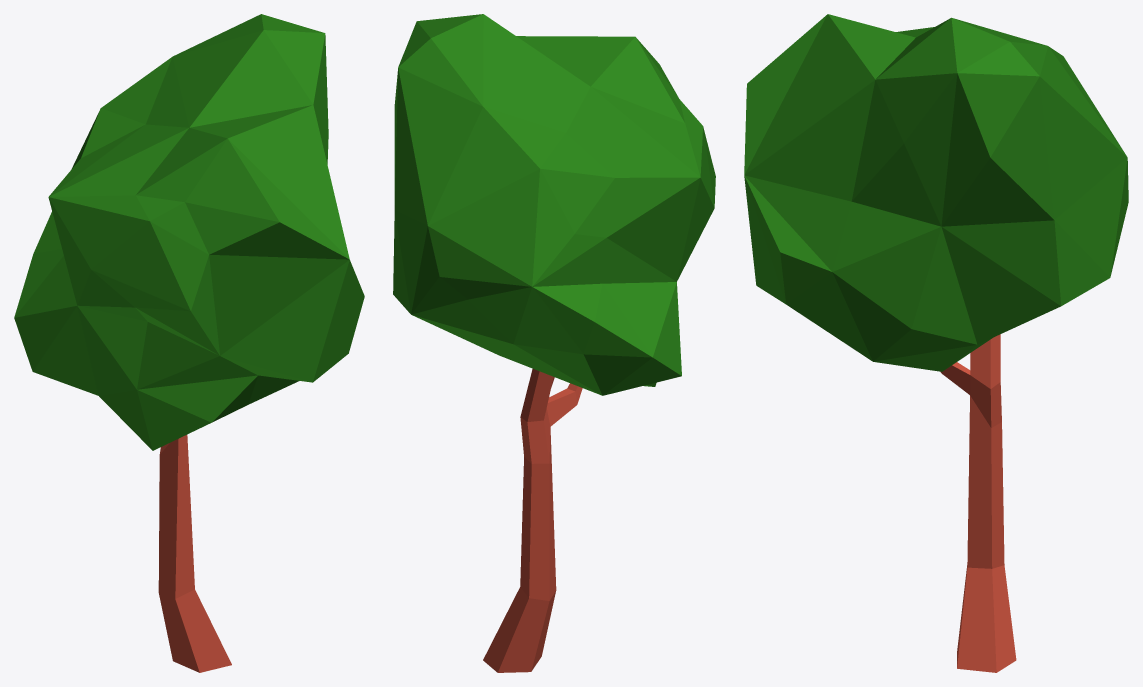
The model's file is tree_1.fbx.
3 views of the same model, side by side, from view 1: azimuth 30°, elevation 25°; view 2: azimuth 150°, elevation 25°; view 3: azimuth 270°, elevation 25° (orthographic). The views are drawn at different scales.
Parts seen in each view (by area): view 1: Tree_1; view 2: Tree_1; view 3: Tree_1.
Boxes of the visible parts, x1,y1,x2,y2 form: Tree_1: (14,14,364,672); Tree_1: (393,14,715,672); Tree_1: (744,14,1128,672).
Bounding box in the file's own units: 3.42 × 7.15 × 3.74.
